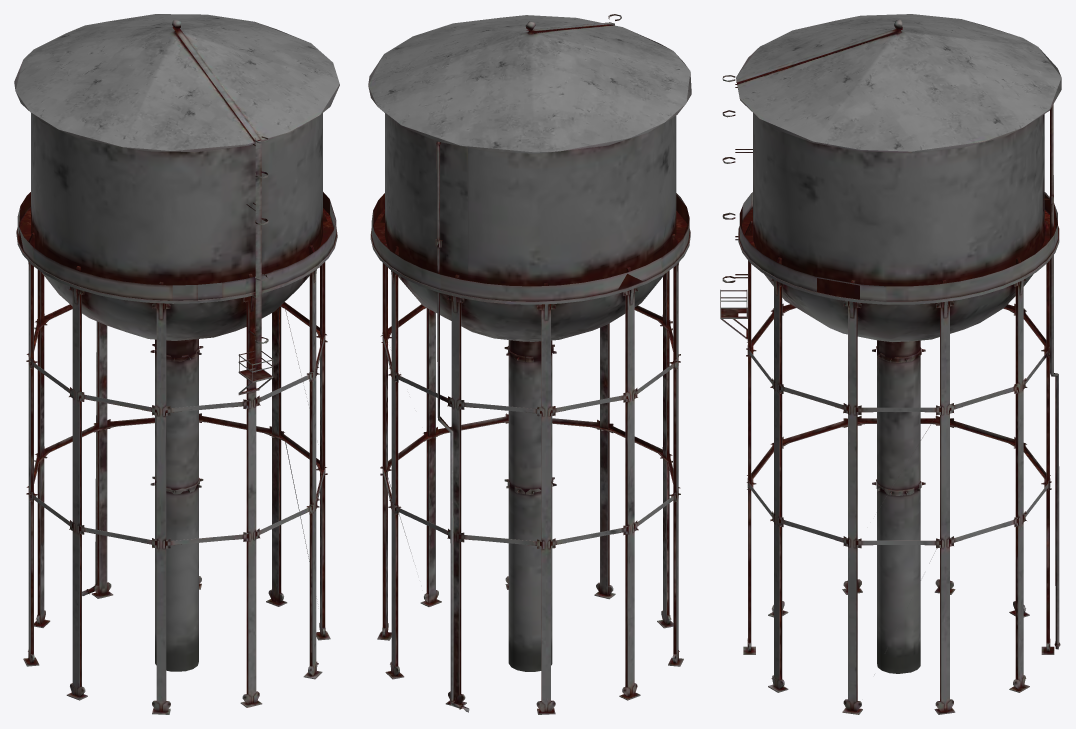
The model's file is watertower.glb.
The picture shows the model from 3 angles, left to right: view 1: azimuth 30°, elevation 25°; view 2: azimuth 150°, elevation 25°; view 3: azimuth 270°, elevation 25°; orthographic projection.
Parts seen in each view (by area): view 1: 02_02_0, 01_01_0; view 2: 02_02_0, 01_01_0; view 3: 02_02_0, 01_01_0.
Part boxes in pixels (x1=…): 02_02_0: x1=14, y1=14, x2=339, y2=671; 01_01_0: x1=16, y1=19, x2=337, y2=714; 02_02_0: x1=368, y1=15, x2=691, y2=671; 01_01_0: x1=370, y1=14, x2=690, y2=714; 02_02_0: x1=736, y1=14, x2=1061, y2=673; 01_01_0: x1=720, y1=19, x2=1060, y2=714.
Size of the model in its own units: 17.19 by 37.54 by 18.02.
2 materials, 2 textured.
